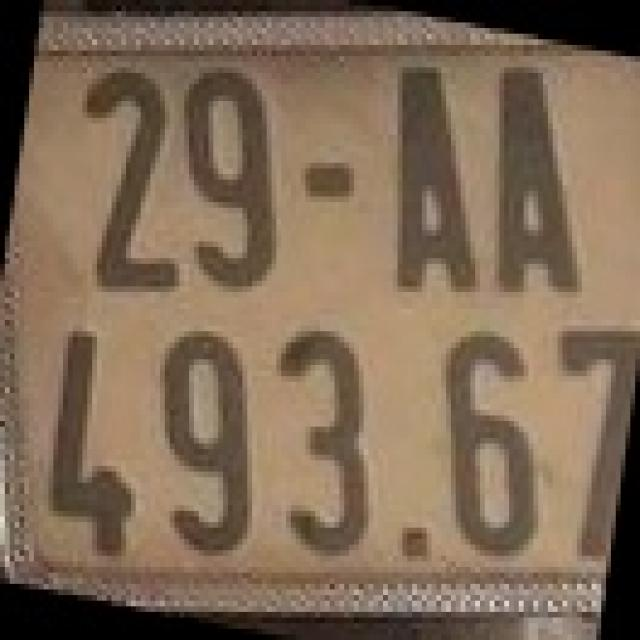2: (73, 56, 184, 298)
3: (267, 320, 378, 556)
4: (34, 314, 141, 567)
6: (432, 320, 543, 561)
7: (553, 320, 635, 561)
9: (150, 314, 262, 562), (179, 56, 291, 298)
A: (485, 56, 596, 303), (378, 51, 485, 303)
